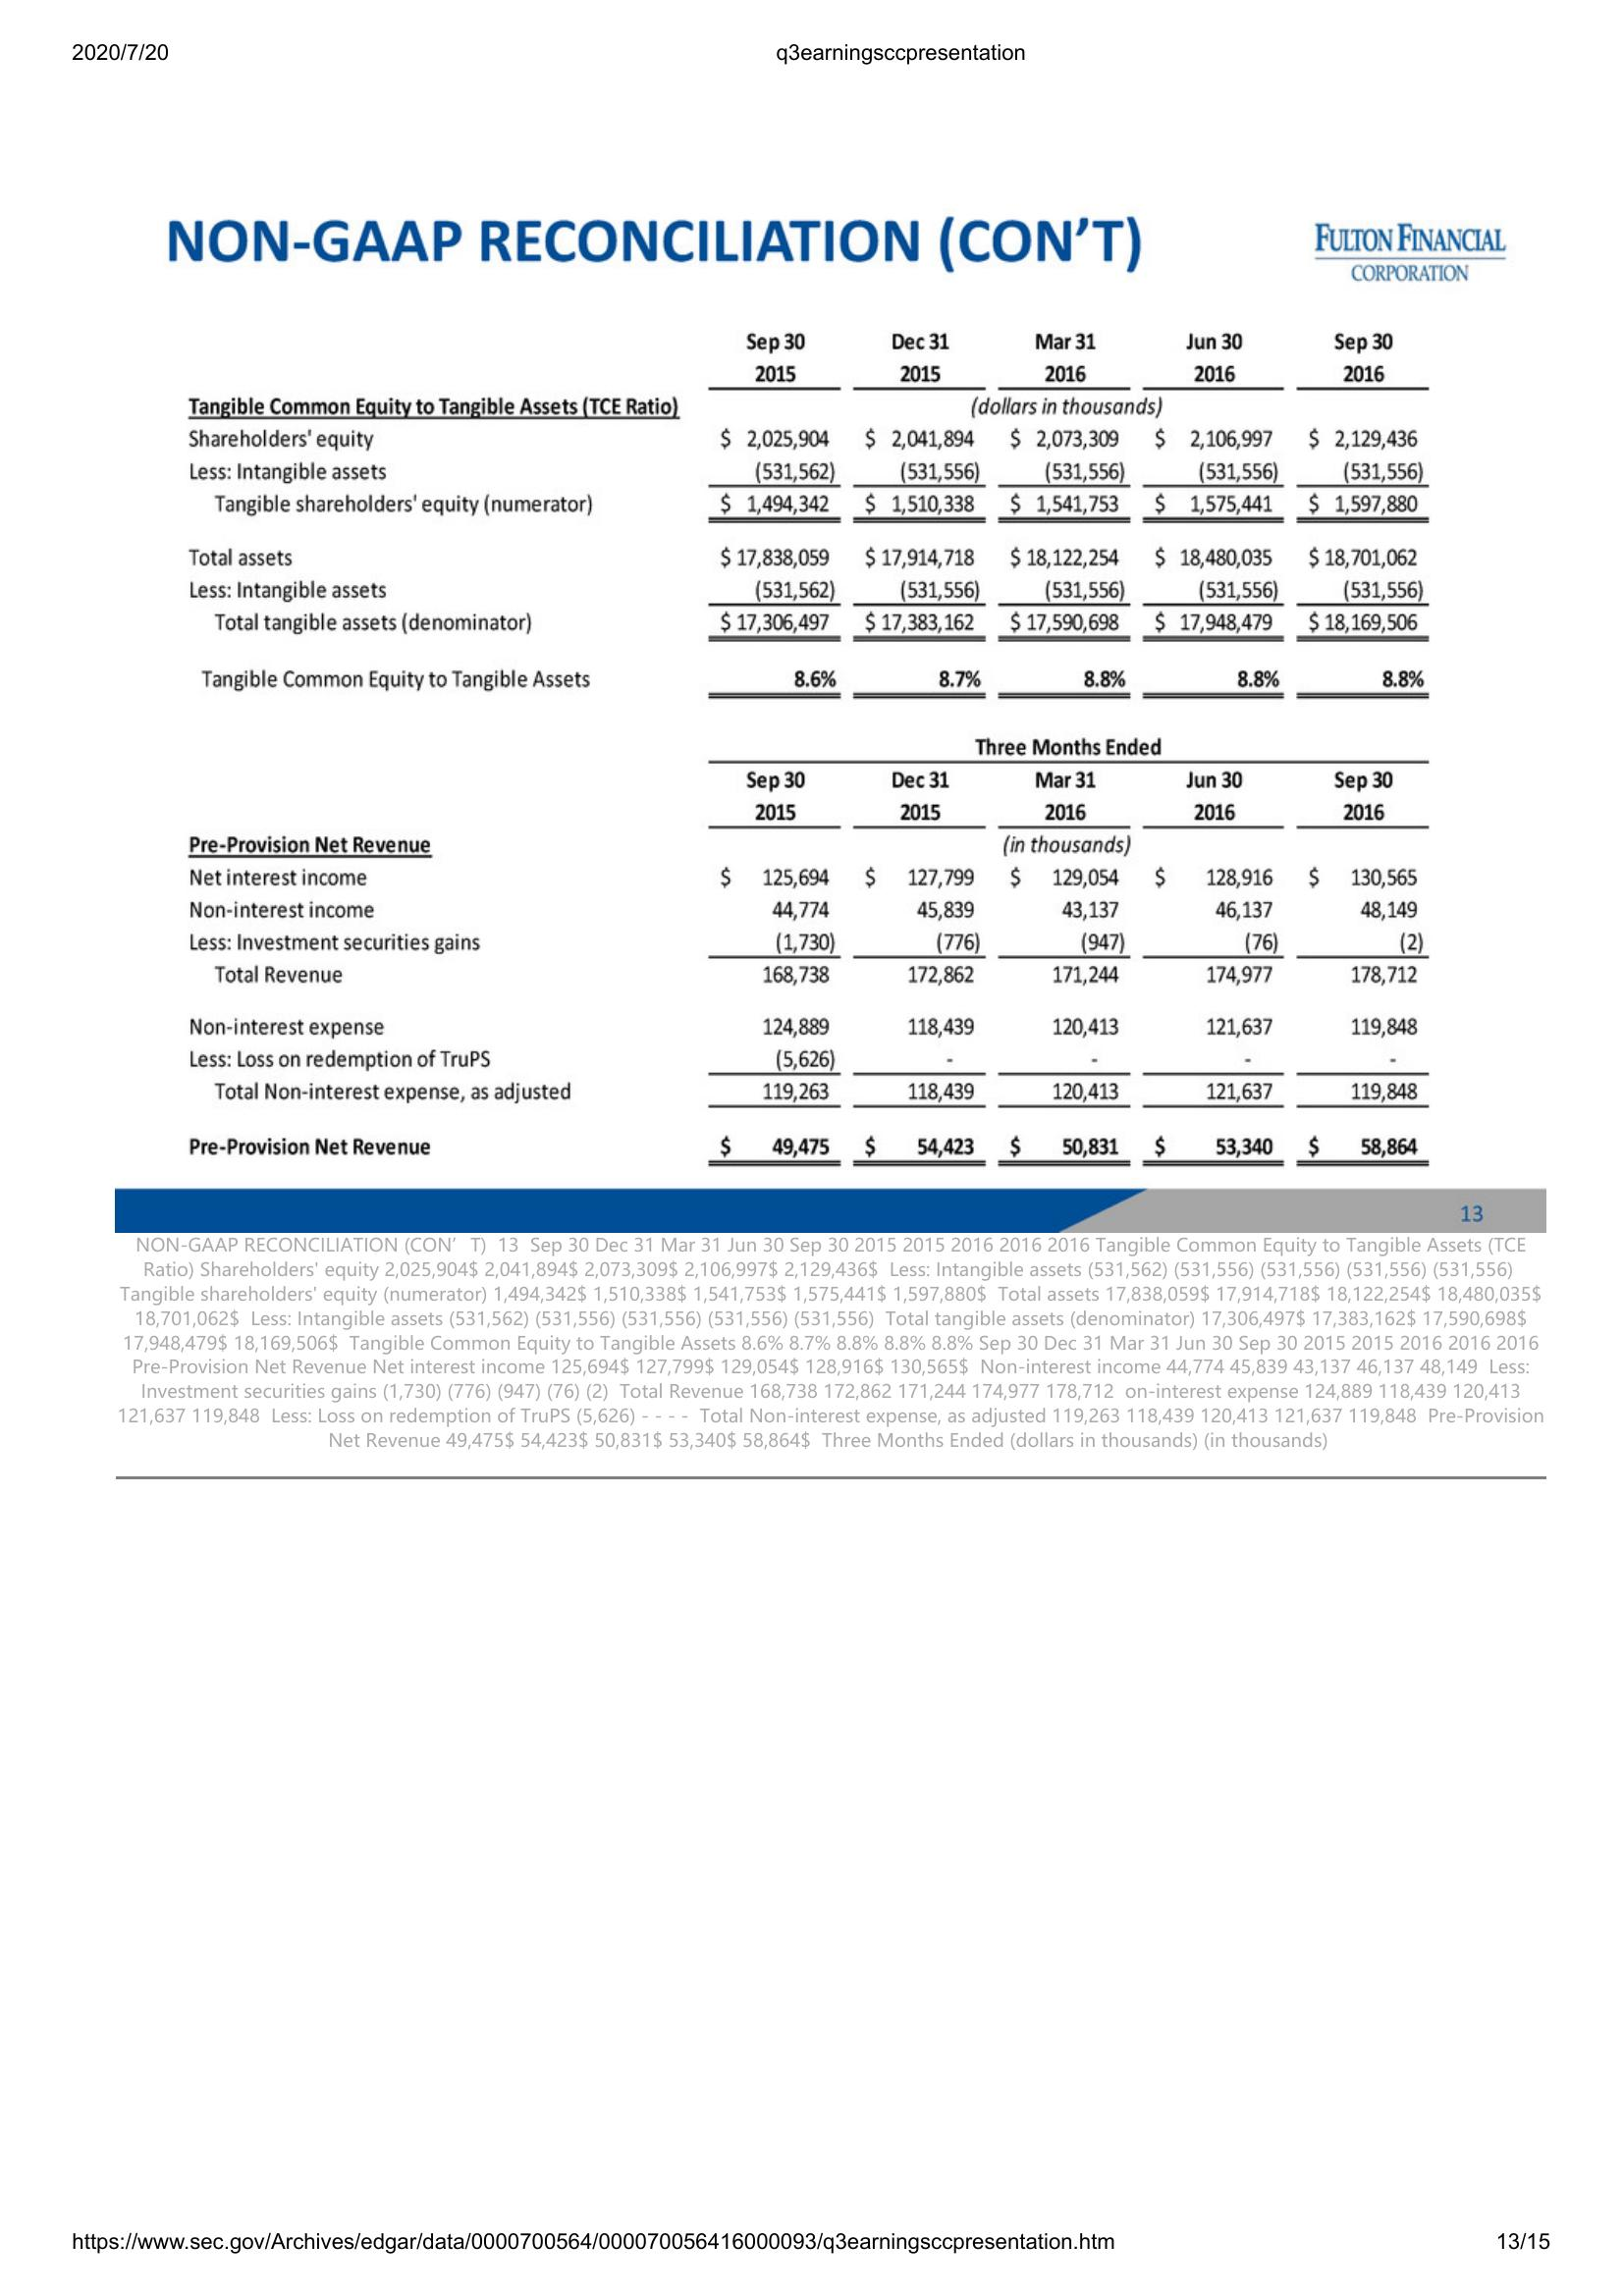table: (181, 727, 1451, 1183), (184, 325, 1447, 707)
